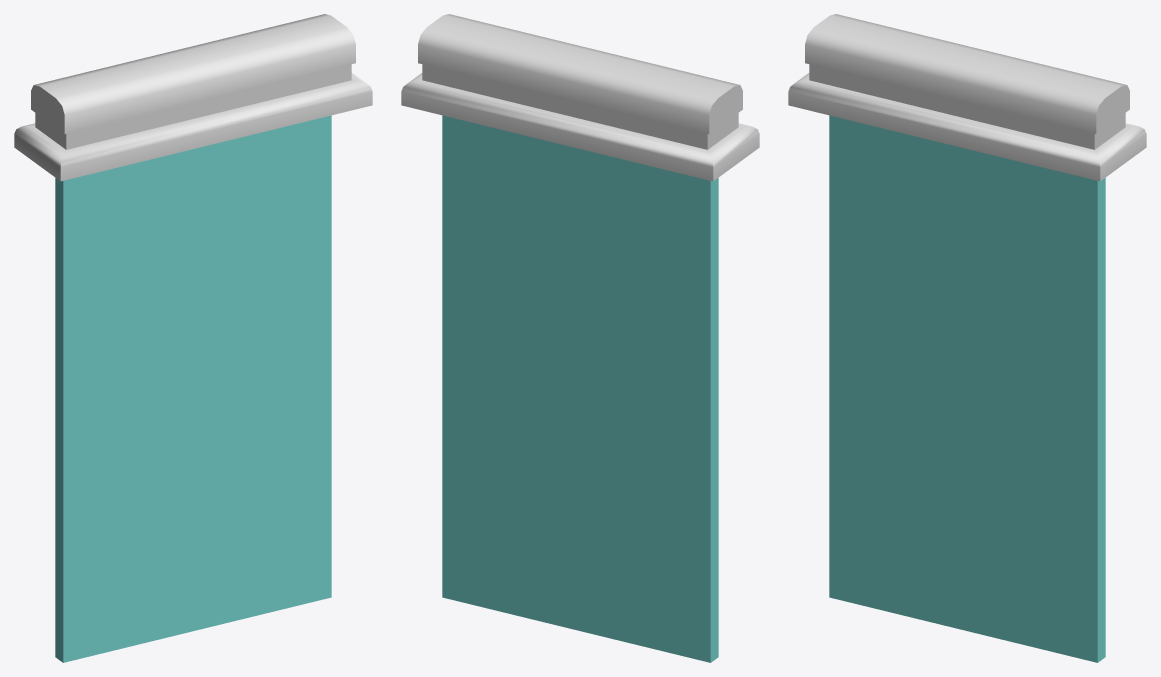
File: Devider Inactive.fbx
3 renders of one model, left to right at view 1: azimuth 30°, elevation 25°; view 2: azimuth 150°, elevation 25°; view 3: azimuth 330°, elevation 25°, orthographic.
Parts seen in each view (by area): view 1: Devider; view 2: Devider; view 3: Devider.
Boxes of the visible parts, x1,y1,x2,y2 form: Devider: [14, 14, 372, 662]; Devider: [401, 14, 759, 662]; Devider: [788, 14, 1146, 662].
Bounding box in the file's own units: 1.16 × 2.03 × 0.2988.
